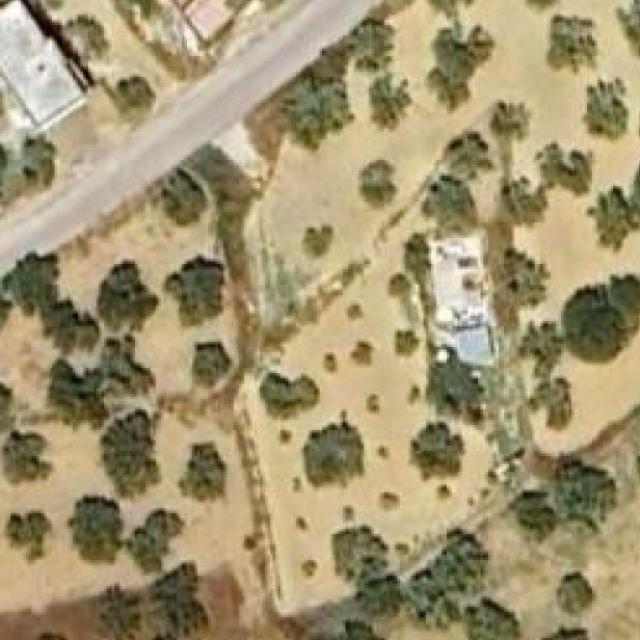Tree: (406, 529, 486, 627), (101, 409, 161, 498), (429, 28, 495, 106), (283, 74, 350, 148), (303, 407, 364, 485), (426, 342, 483, 425), (93, 259, 159, 330), (145, 565, 207, 637), (566, 288, 627, 360), (166, 256, 224, 326), (50, 361, 107, 428), (96, 329, 154, 394), (407, 422, 468, 482), (8, 251, 66, 314), (130, 508, 185, 574), (68, 498, 122, 563), (348, 9, 400, 71), (548, 14, 600, 75), (176, 440, 226, 503), (558, 461, 608, 524), (422, 176, 476, 234), (582, 77, 628, 144), (494, 248, 544, 309), (538, 140, 592, 194), (260, 373, 320, 420), (330, 526, 382, 578), (40, 298, 94, 348), (0, 433, 49, 488), (161, 168, 206, 226), (5, 511, 52, 566), (14, 137, 61, 192), (57, 15, 104, 70), (509, 492, 559, 542), (364, 75, 411, 127), (356, 572, 406, 620), (592, 189, 634, 246), (96, 591, 144, 640), (358, 160, 400, 210), (533, 376, 575, 425), (498, 181, 546, 222), (466, 598, 510, 640), (114, 77, 156, 121), (192, 342, 232, 386), (444, 132, 492, 168), (519, 328, 559, 368), (556, 574, 592, 618), (395, 233, 432, 275), (615, 0, 640, 58), (490, 103, 530, 139), (301, 225, 336, 260), (540, 624, 600, 640), (332, 622, 380, 640), (0, 373, 12, 430), (351, 340, 375, 366), (322, 352, 341, 376), (379, 493, 400, 511), (345, 302, 364, 321), (301, 560, 317, 579), (367, 394, 382, 414), (528, 0, 559, 9), (636, 155, 640, 222), (636, 456, 640, 482)
